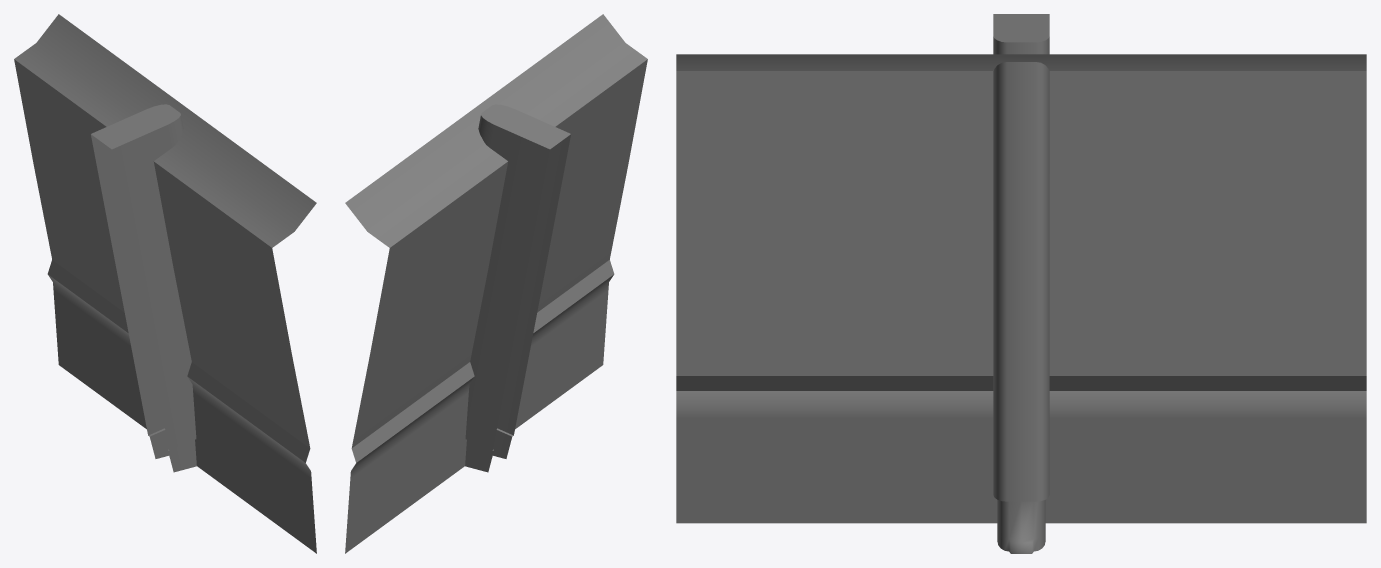
The model's file is q-scifi-mod-wallastra-straight.glb.
The picture shows the model from 3 angles, left to right: view 1: azimuth 30°, elevation 25°; view 2: azimuth 150°, elevation 25°; view 3: azimuth 270°, elevation 25°; orthographic projection. The views are drawn at different scales.
Parts seen in each view (by area): view 1: WallAstra_Straight; view 2: WallAstra_Straight; view 3: WallAstra_Straight.
Boxes of the visible parts, bbox=[...] form: WallAstra_Straight: bbox=[14, 14, 316, 553]; WallAstra_Straight: bbox=[345, 14, 647, 553]; WallAstra_Straight: bbox=[676, 14, 1366, 553].
Size of the model in its own units: 1.21 by 3.03 by 4.
Materials: 5 (5 with a texture image).
